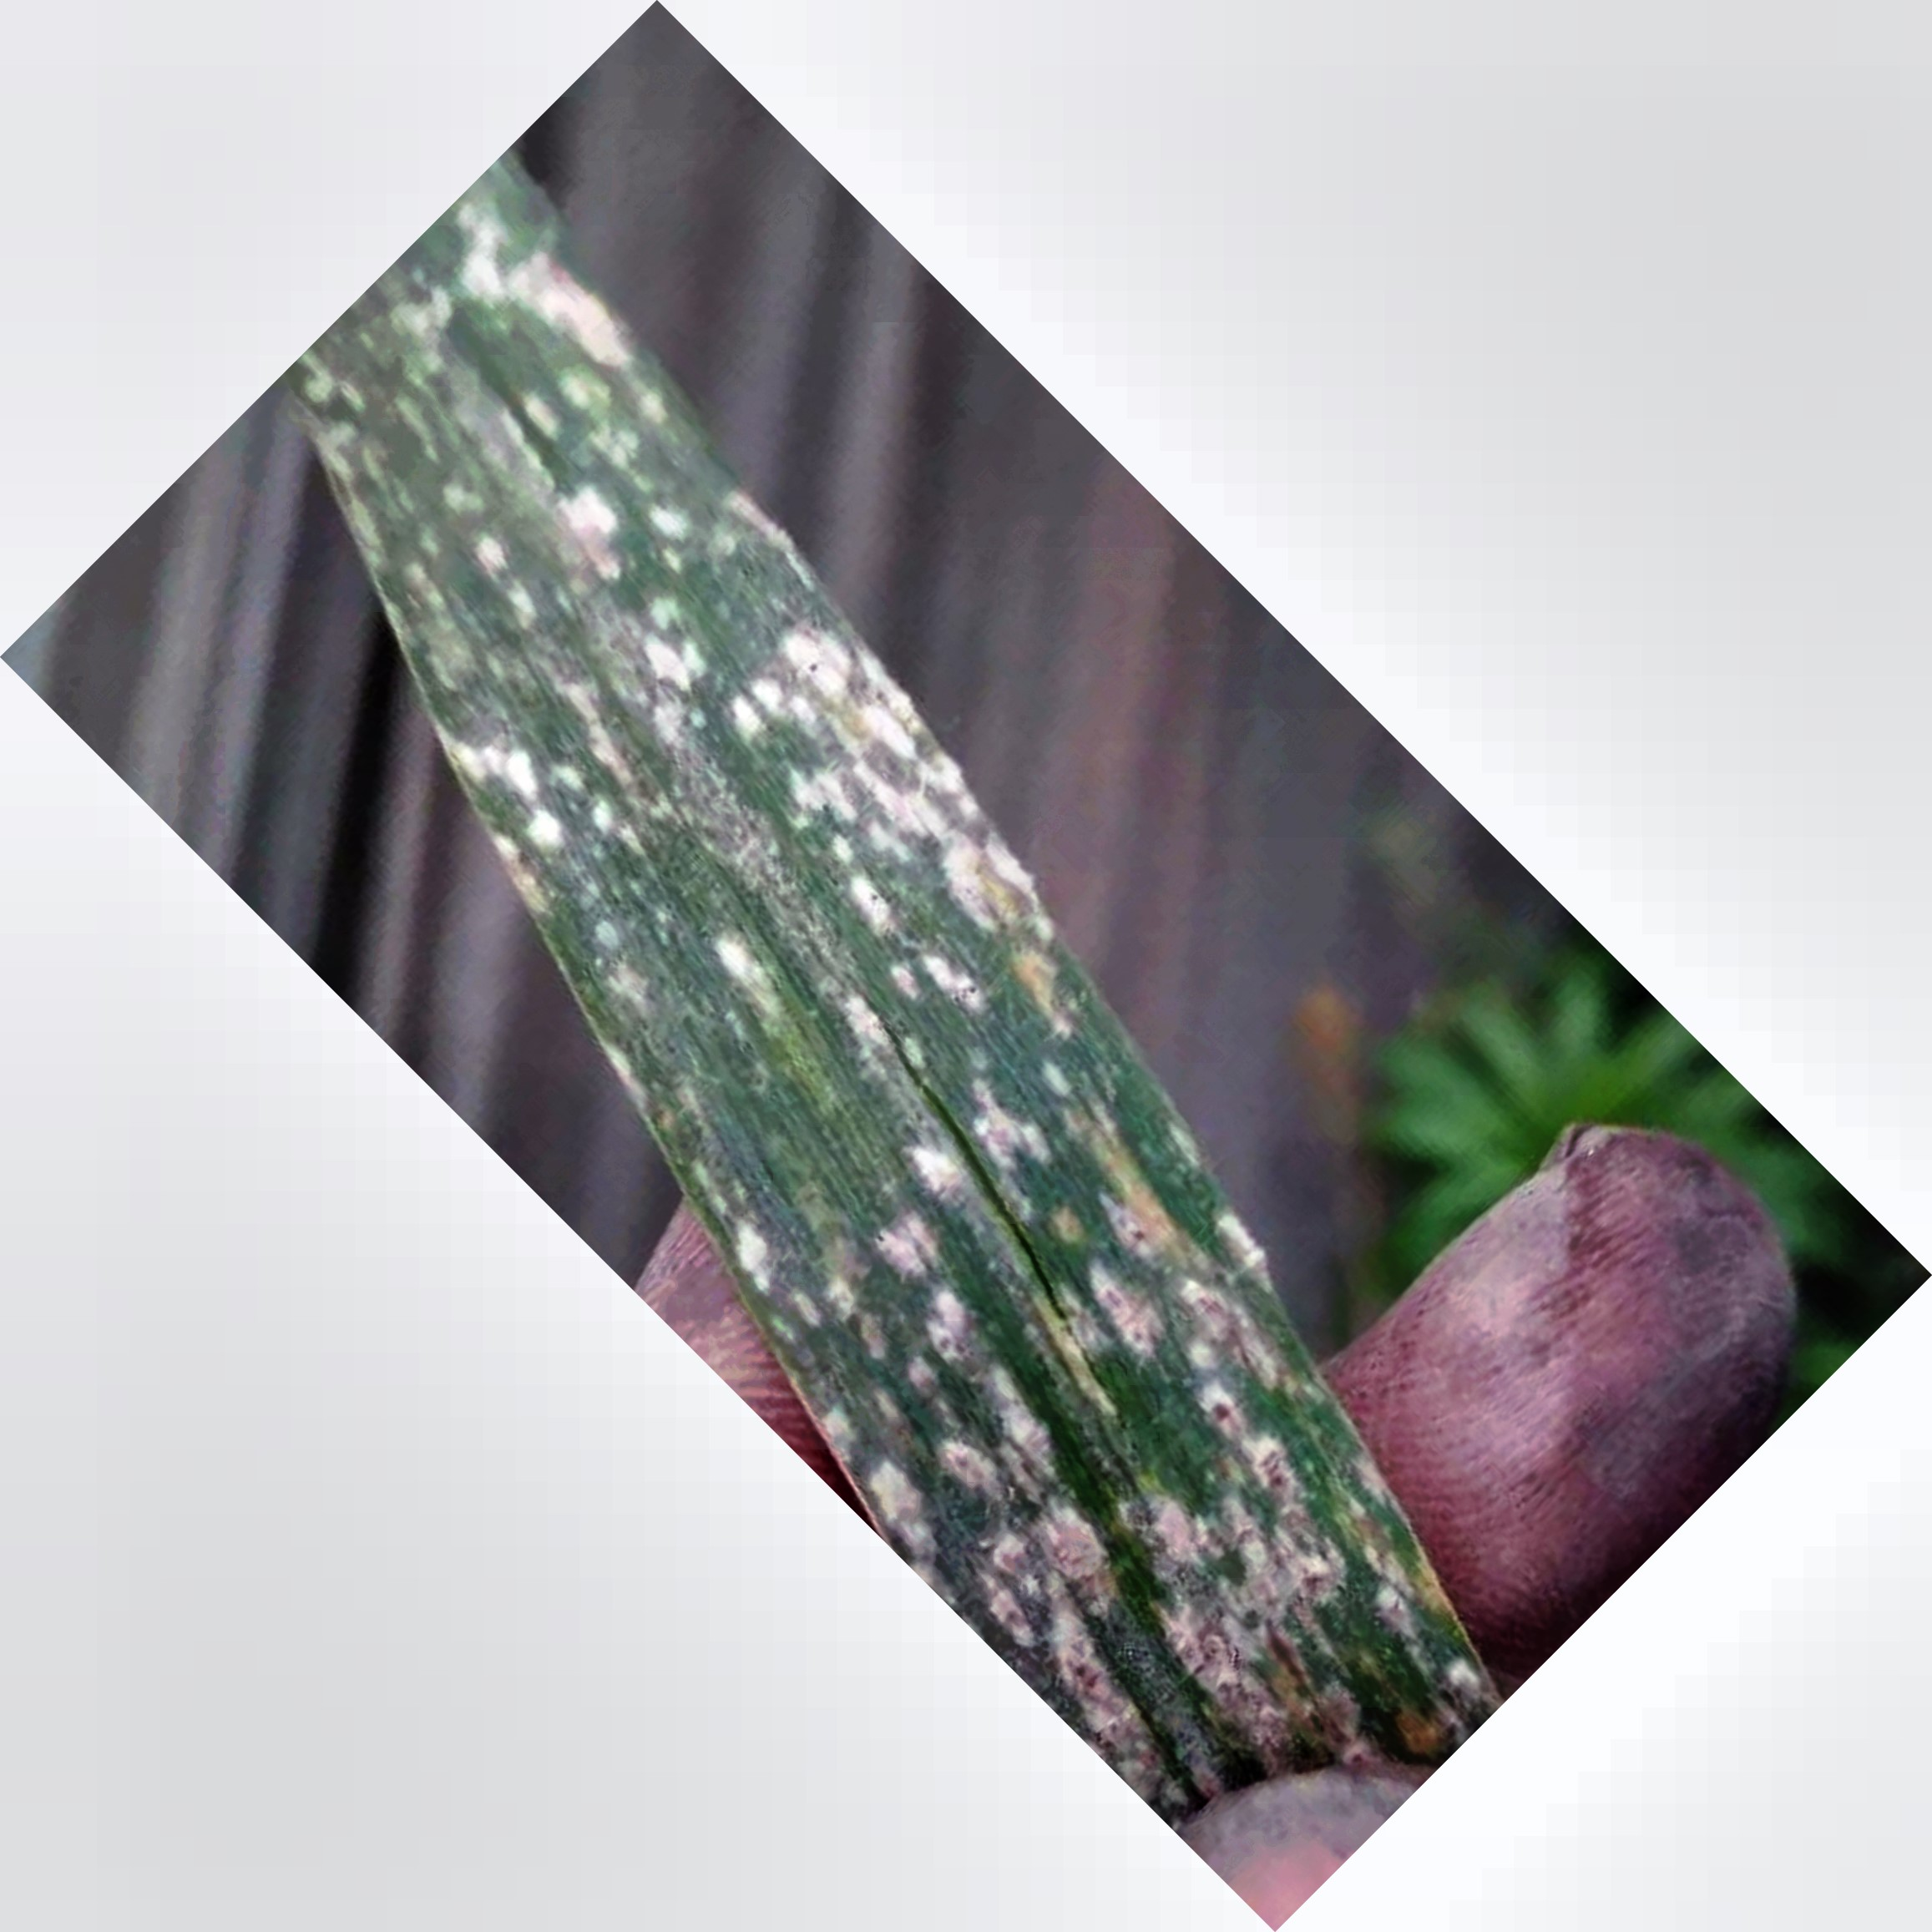Powdery Mildew: (444, 483, 1380, 1759)
